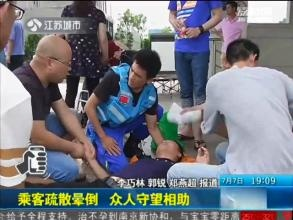falling: (88, 133, 207, 196)
